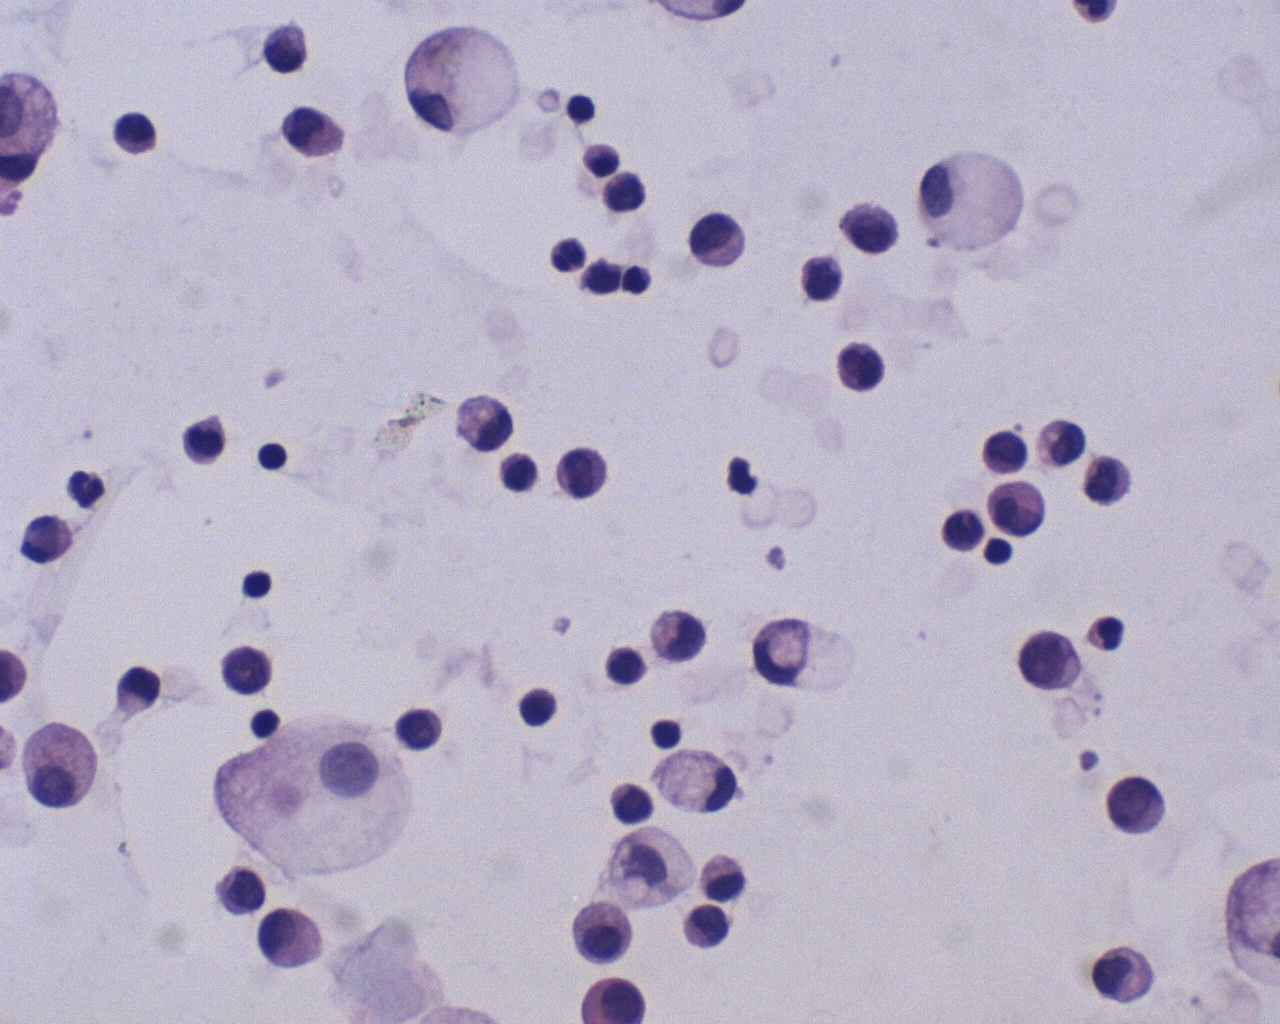ab: (1099, 770, 1176, 845), (831, 195, 907, 260), (1016, 627, 1086, 696), (551, 440, 616, 507), (831, 335, 889, 396), (104, 107, 161, 165), (394, 701, 451, 757), (982, 425, 1032, 479)
histo: (212, 707, 421, 884), (396, 25, 528, 148), (912, 148, 1027, 252), (649, 740, 744, 823)
lymph: (249, 434, 293, 478), (240, 560, 280, 605), (245, 706, 290, 743), (980, 536, 1013, 575)
meso: (10, 718, 113, 816), (568, 899, 635, 969), (689, 212, 750, 273)
neutro: (65, 462, 114, 515), (1085, 612, 1127, 656), (548, 233, 589, 276)
